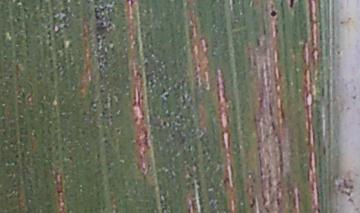tarspot: (268, 7, 279, 22), (287, 1, 298, 16)
